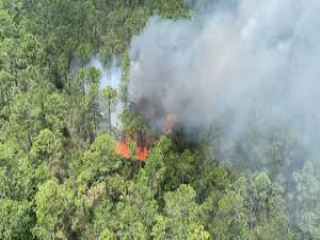fire: (111, 123, 152, 161), (158, 114, 176, 134)
smoke: (82, 28, 315, 169)
